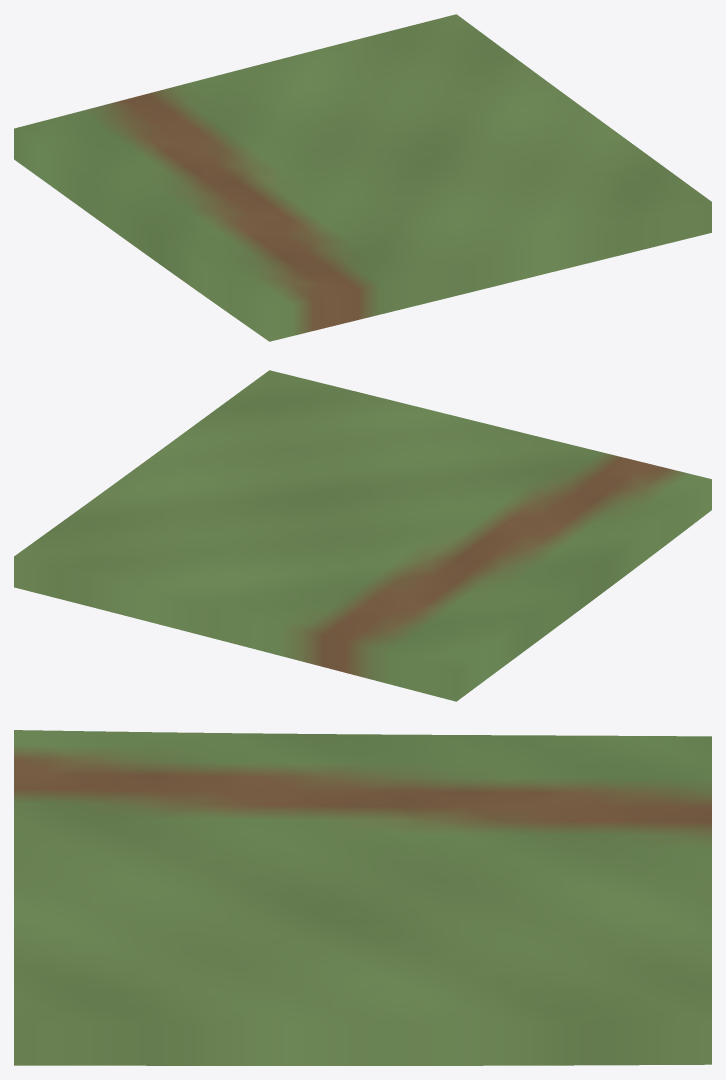
3 views of the same model, one above another, from view 1: azimuth 30°, elevation 25°; view 2: azimuth 150°, elevation 25°; view 3: azimuth 270°, elevation 25° (orthographic). The views are drawn at different scales.
Visible parts, largest first — view 1: terrain; view 2: terrain; view 3: terrain.
Boxes of the visible parts, <box> form: terrain: <box>14,14,711,341</box>; terrain: <box>14,370,711,701</box>; terrain: <box>14,730,711,1065</box>.
Size of the model in its own units: 30 by 2.42 by 30.
